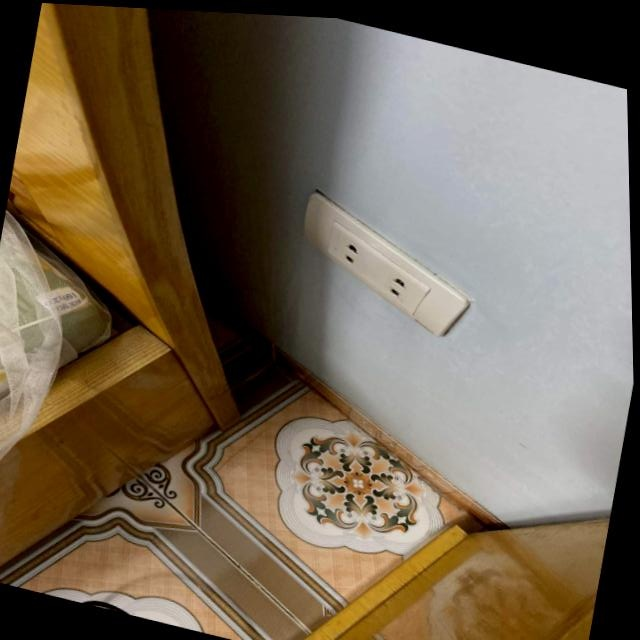outlet: (286, 188, 485, 346)
